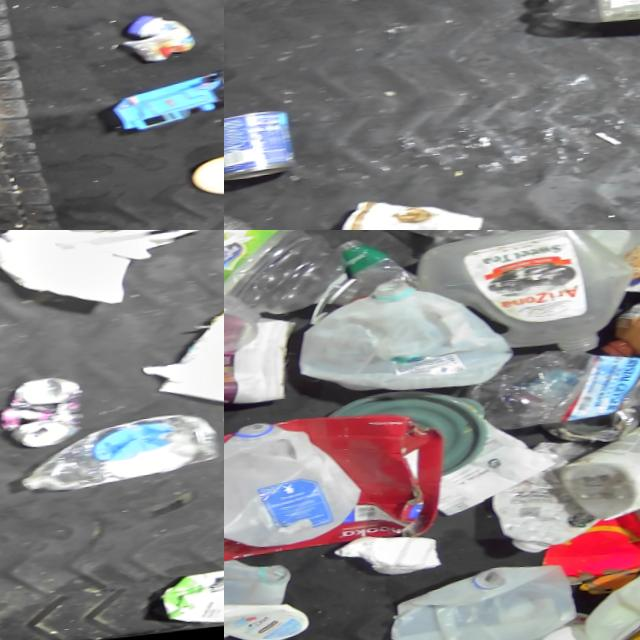can: (0, 379, 83, 458), (224, 108, 298, 185)
milk_jug: (409, 230, 637, 379), (288, 274, 514, 411), (224, 415, 362, 559), (378, 564, 575, 640), (224, 555, 292, 640), (574, 555, 640, 640)
plastic_bottle: (457, 344, 640, 443), (12, 418, 218, 502), (224, 230, 366, 336)
